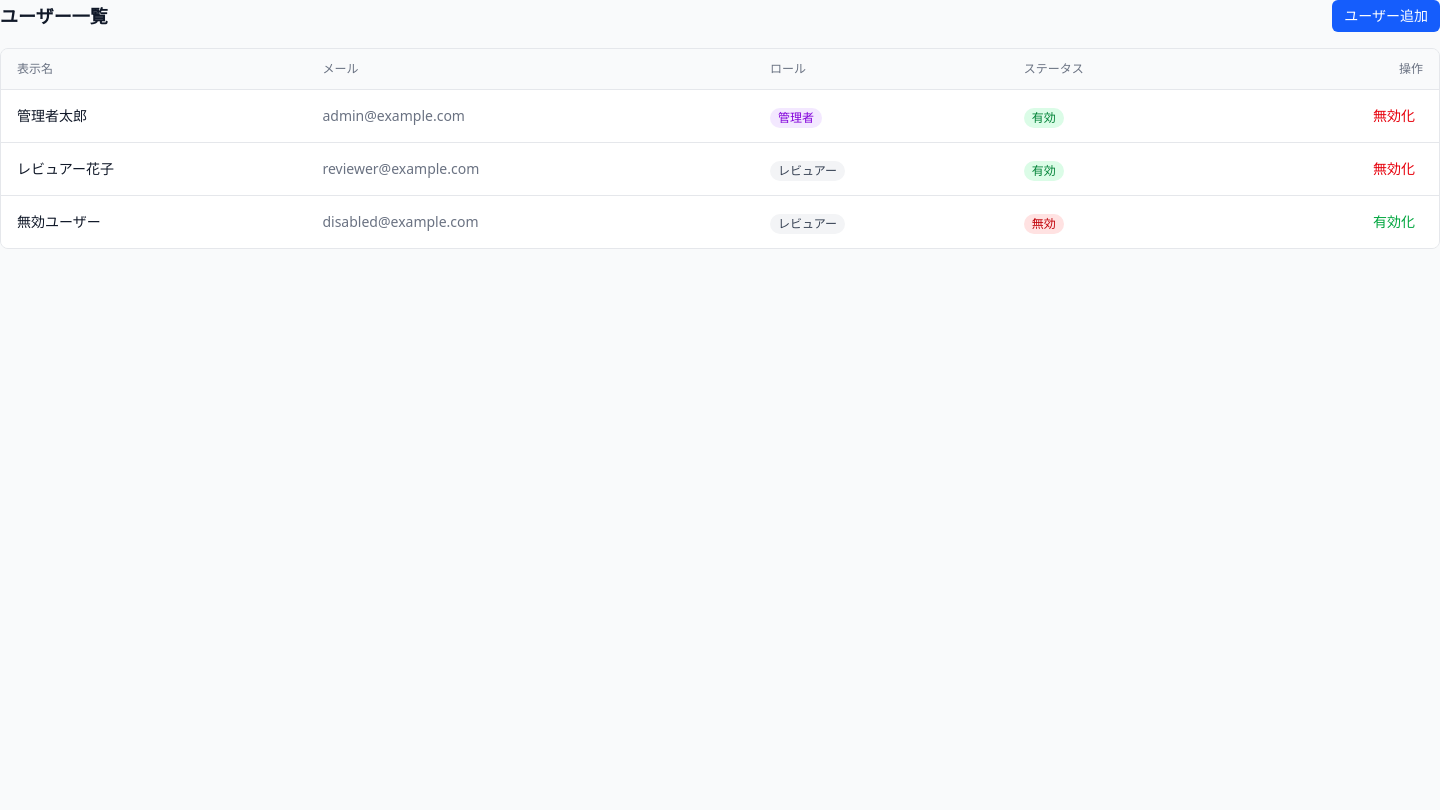
Test case: UserManagement › cancels enable confirmation dialog
Click the button "有効化" at (1394, 222), box [1365, 208, 1423, 236]
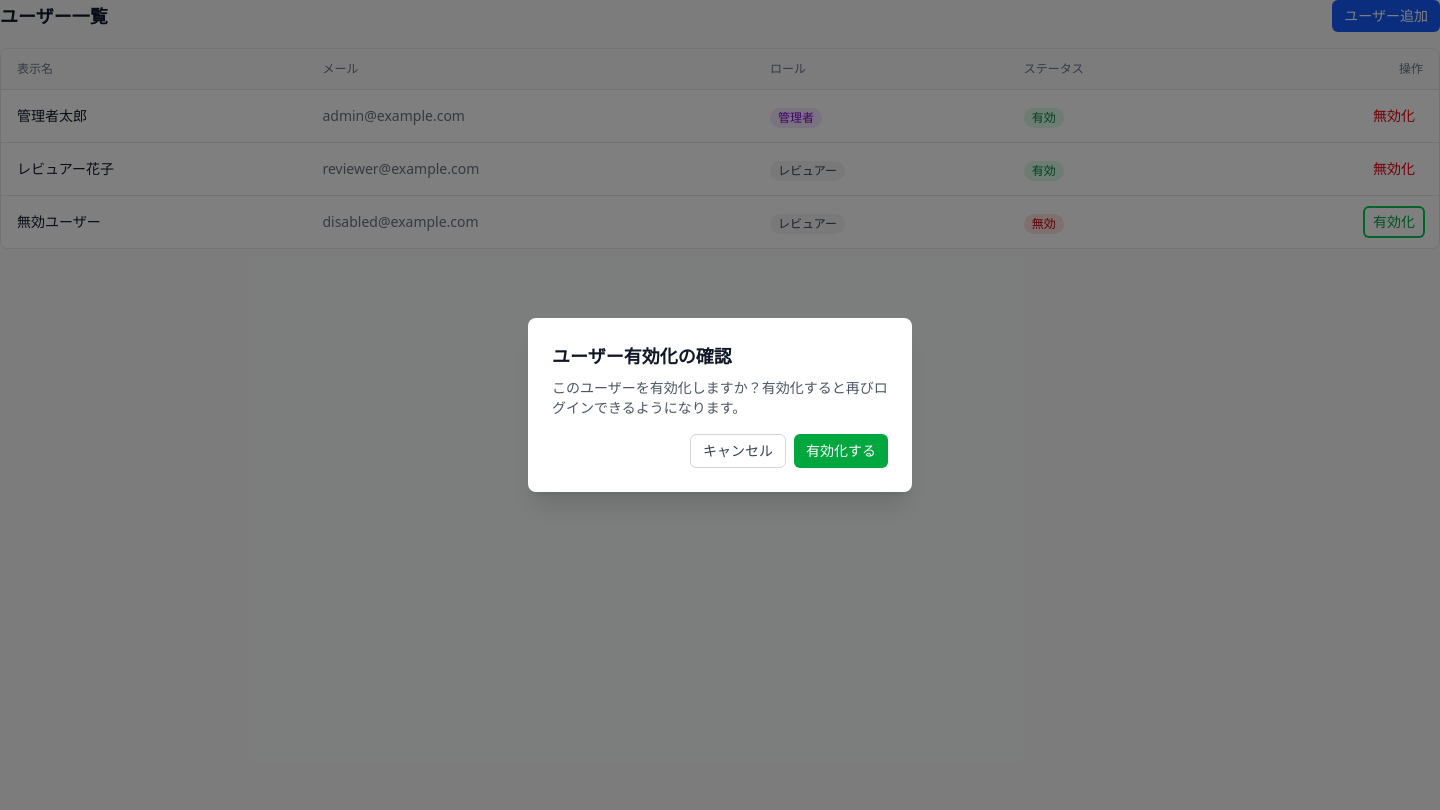
Check: the heading "ユーザー有効化の確認" is shown, box [552, 344, 732, 368]
Click the button "キャンセル" at (738, 451), box [690, 434, 786, 468]
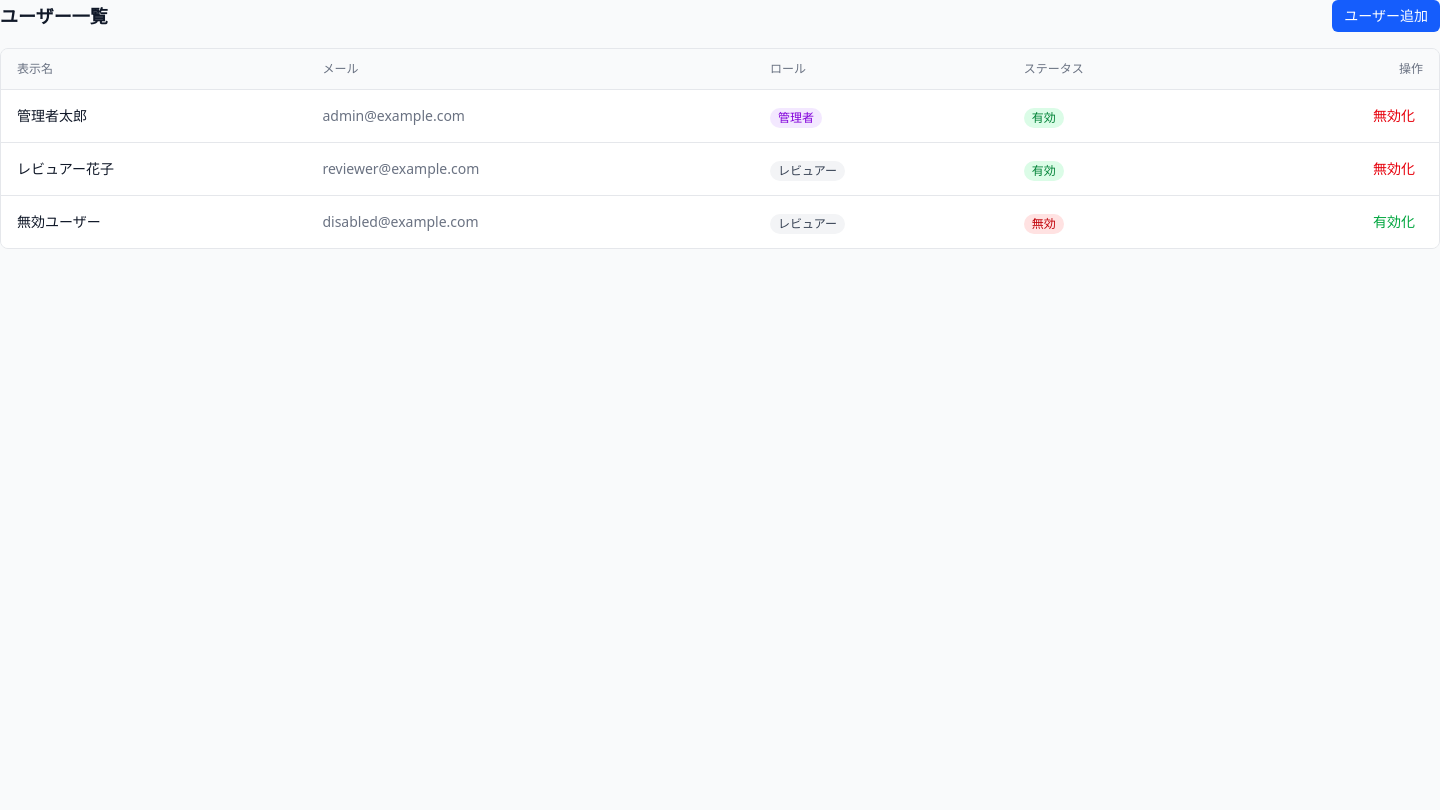
Check: the heading "ユーザー有効化の確認" is gone
